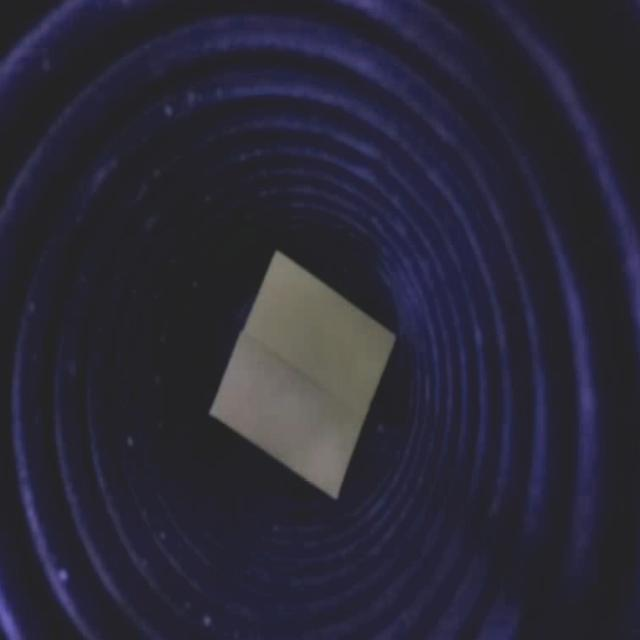obstacles: (214, 250, 395, 503)
